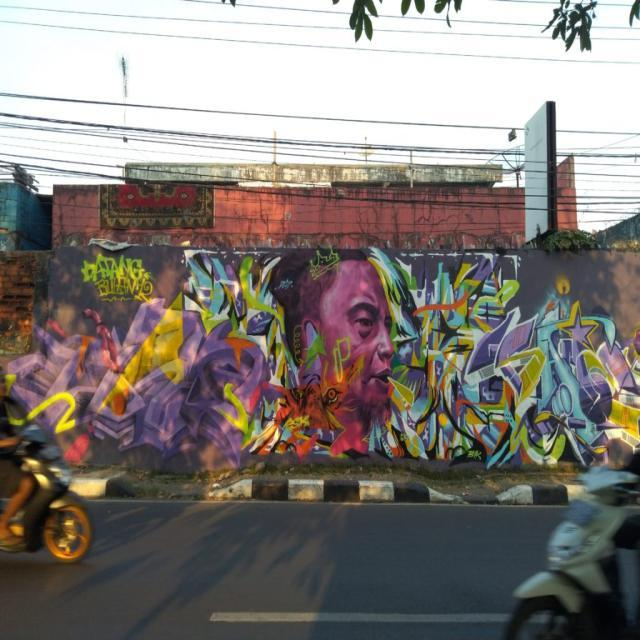-: (9, 247, 640, 473)
